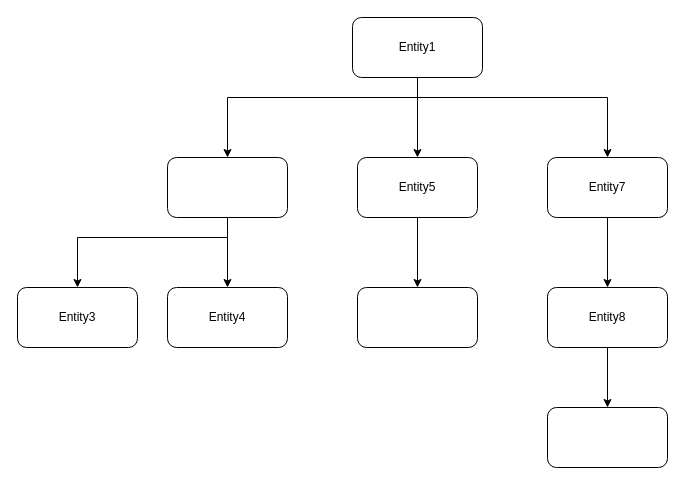
This 685x485 diagram has some shape labels left out. The centre of each missing label's shape, as x and y in pixels:
"Entity2" belongs at pixel 227 187.
"Entity6" belongs at pixel 417 317.
"Entity9" belongs at pixel 607 437.
